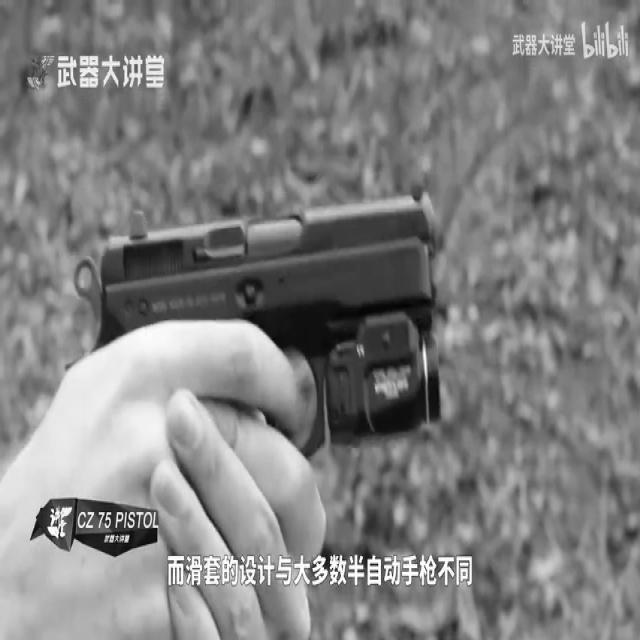Hand-Gun: (99, 134, 477, 640)
